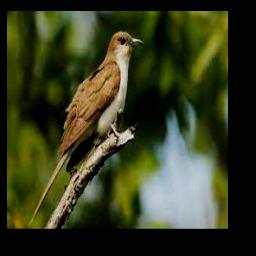Cuckoo: (29, 31, 144, 226)
